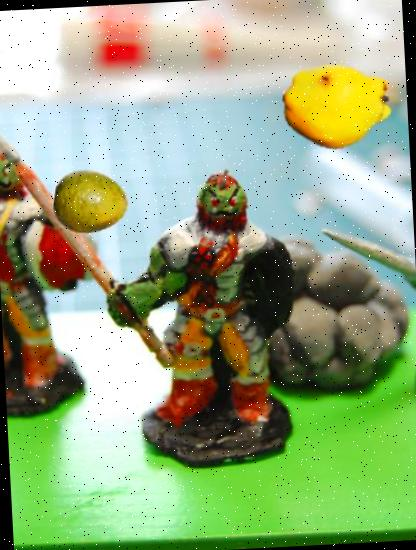Guava: (52, 163, 132, 243)
Quince: (280, 49, 394, 164)
